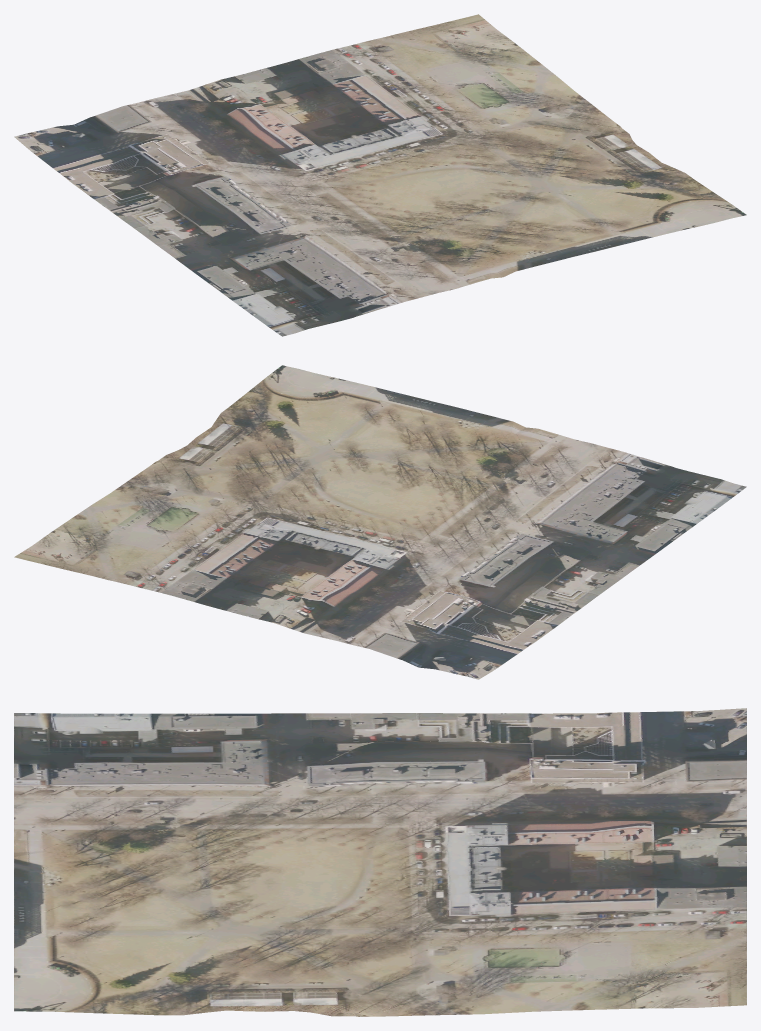
The model's file is CM_Terrain_24488206_6820818.fbx.
3 views of the same model, one above another, from view 1: azimuth 30°, elevation 25°; view 2: azimuth 150°, elevation 25°; view 3: azimuth 270°, elevation 25° (orthographic). The views are drawn at different scales.
Visible parts, largest first — view 1: CM_Terrain_24488206_6820818_LOD0; view 2: CM_Terrain_24488206_6820818_LOD0; view 3: CM_Terrain_24488206_6820818_LOD0.
Part boxes in pixels (bbox=[...]): CM_Terrain_24488206_6820818_LOD0: bbox=[14, 14, 746, 336]; CM_Terrain_24488206_6820818_LOD0: bbox=[14, 365, 746, 679]; CM_Terrain_24488206_6820818_LOD0: bbox=[14, 708, 746, 1016].
Size of what is drawn, in the model's own units: 205 by 5.82 by 205.
